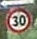limite 30: (5, 6, 31, 33)
